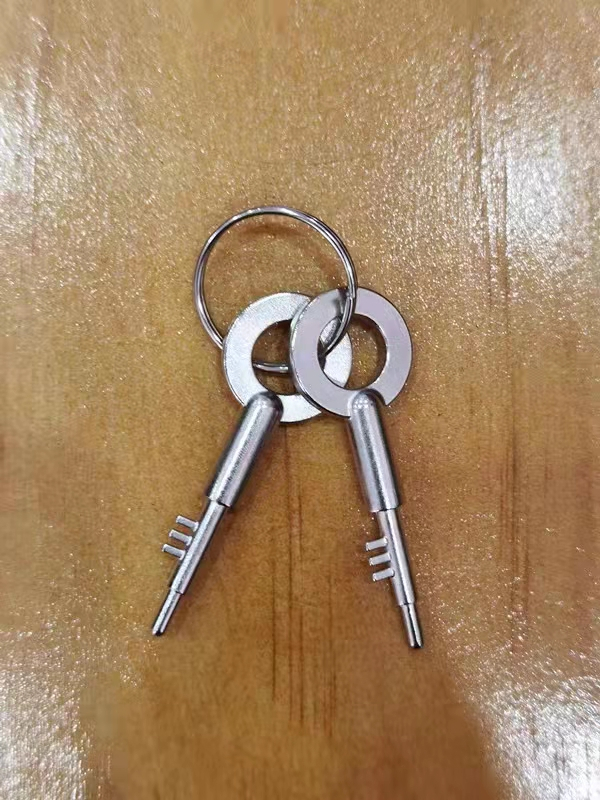key: (153, 280, 355, 646), (294, 291, 438, 652)
